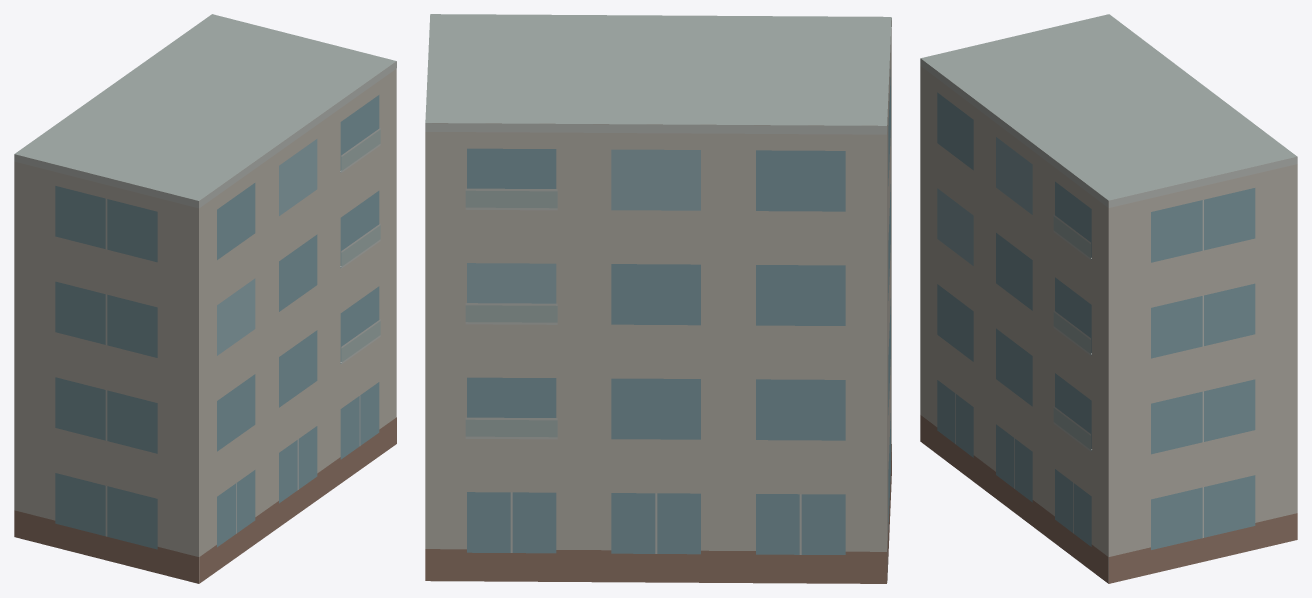
The model's file is survey-upis-32806198.glb.
The picture shows the model from 3 angles, left to right: view 1: azimuth 30°, elevation 25°; view 2: azimuth 150°, elevation 25°; view 3: azimuth 270°, elevation 25°; orthographic projection. The views are drawn at different scales.
Visible parts, largest first — view 1: survey-upis-32806198.tmp; view 2: survey-upis-32806198.tmp; view 3: survey-upis-32806198.tmp.
Part boxes in pixels (x1,y1,x2,y2): survey-upis-32806198.tmp: (14,14,396,583); survey-upis-32806198.tmp: (425,14,891,583); survey-upis-32806198.tmp: (920,14,1297,583).
Bounding box in the file's own units: 13.17 × 12.6 × 11.25.
